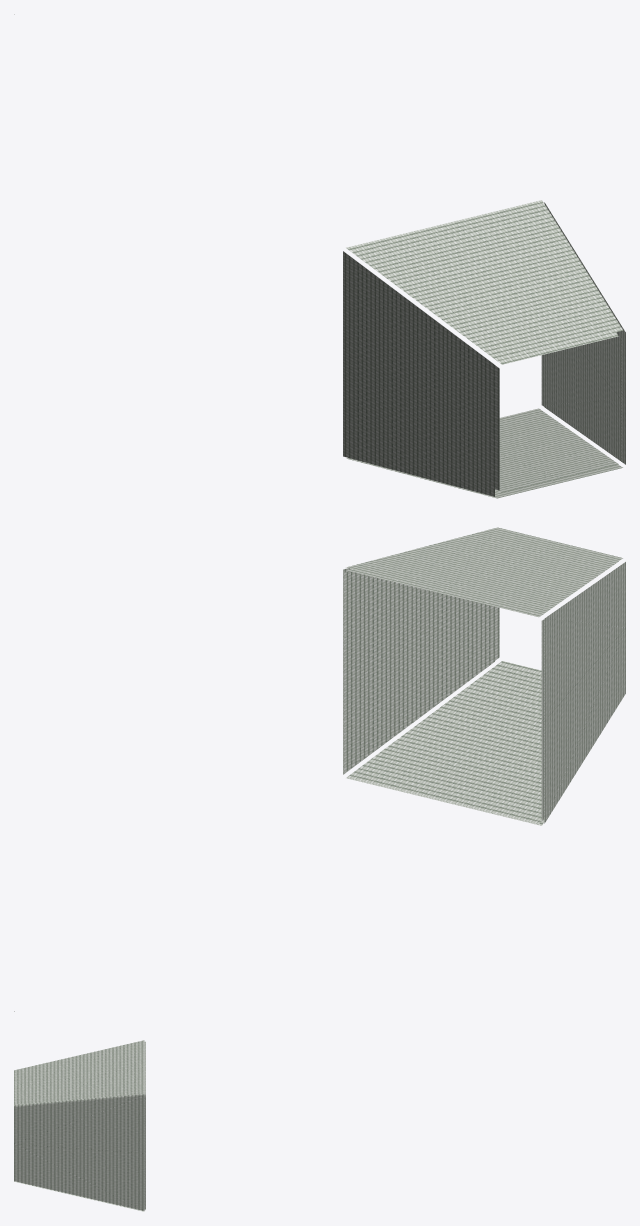
The model's file is MeshFloorLamp_17_0_GeomSubset_2.obj.
The picture shows the model from 3 angles, top to bottom: view 1: azimuth 30°, elevation 25°; view 2: azimuth 150°, elevation 25°; view 3: azimuth 270°, elevation 25°; orthographic projection. The views are drawn at different scales.
Parts seen in each view (by area): view 1: MeshFloorLamp_17_0_GeomSubset_2; view 2: MeshFloorLamp_17_0_GeomSubset_2; view 3: MeshFloorLamp_17_0_GeomSubset_2.
Part boxes in pixels (bbox=[...]): MeshFloorLamp_17_0_GeomSubset_2: bbox=[14, 14, 625, 498]; MeshFloorLamp_17_0_GeomSubset_2: bbox=[14, 527, 625, 1011]; MeshFloorLamp_17_0_GeomSubset_2: bbox=[14, 1040, 145, 1211].
Size of the model in its own units: 0.3765 by 0.3765 by 1.77.
